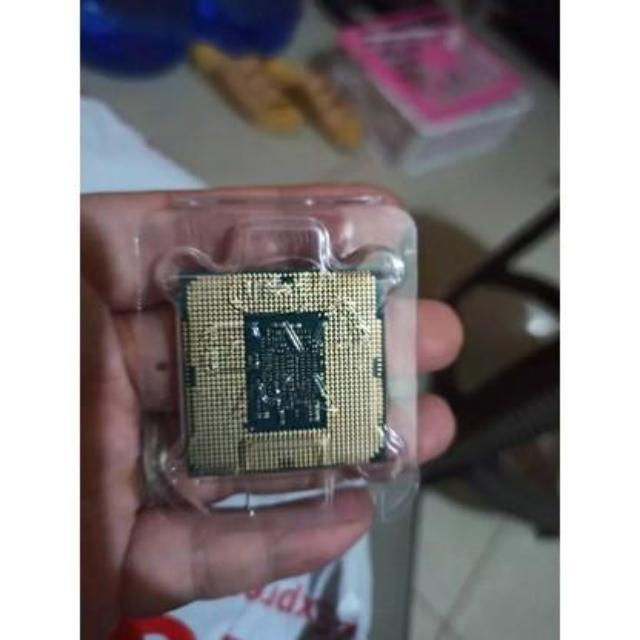CPU: (167, 267, 387, 478)
